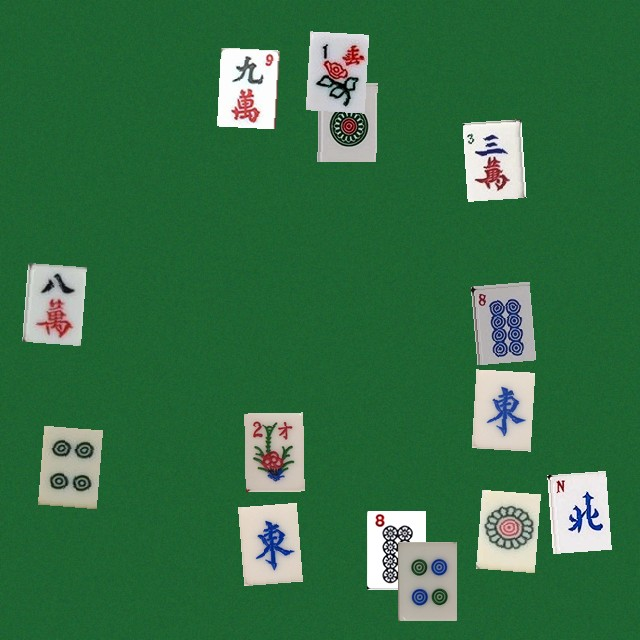tile: (470, 281, 529, 360), (547, 470, 606, 549), (244, 412, 303, 491), (317, 82, 376, 161), (471, 369, 530, 448), (366, 510, 425, 589), (37, 425, 96, 504), (305, 31, 364, 110), (397, 541, 456, 620), (22, 262, 81, 341), (476, 489, 535, 568), (237, 502, 296, 581), (216, 47, 275, 126), (462, 119, 521, 198)
